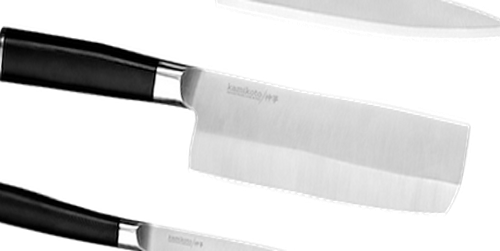knife: (1, 27, 482, 185)
